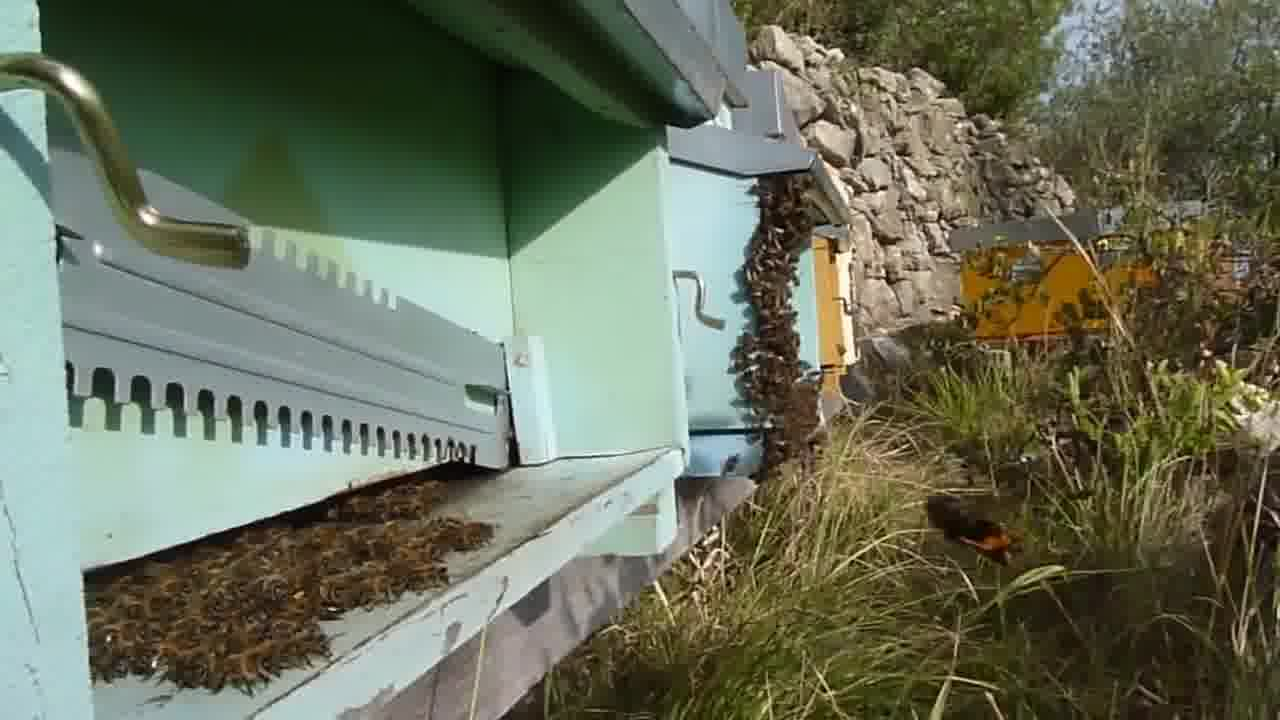bee: (93, 566, 250, 681), (232, 523, 436, 610), (731, 338, 825, 427), (754, 172, 823, 259), (734, 254, 804, 334), (247, 617, 323, 679), (334, 485, 441, 527), (420, 532, 493, 577)
hornet: (901, 477, 1026, 571)
